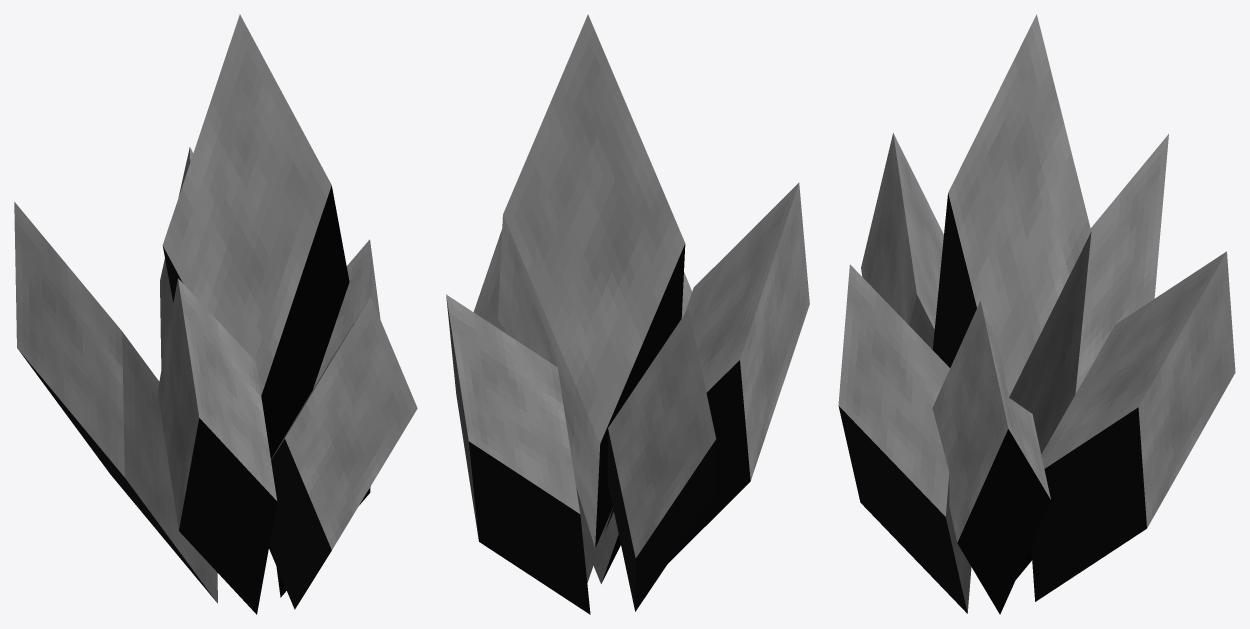
File: earth_crystal_cluster.obj
3 views of the same model, side by side, from view 1: azimuth 30°, elevation 25°; view 2: azimuth 150°, elevation 25°; view 3: azimuth 270°, elevation 25° (orthographic). The views are drawn at different scales.
Visible parts, largest first — view 1: part0, part4, part3, part5, part1, part2; view 2: part0, part2, part4, part3, part1, part5; view 3: part0, part2, part5, part1, part3, part4.
Part boxes in pixels (<box>): part0: <box>162,14,349,459</box>; part4: <box>157,278,277,614</box>; part3: <box>14,202,217,603</box>; part5: <box>269,296,417,609</box>; part1: <box>276,239,380,597</box>; part2: <box>160,147,193,369</box>; part0: <box>498,14,685,548</box>; part2: <box>446,294,590,614</box>; part4: <box>668,182,809,563</box>; part3: <box>607,309,716,611</box>; part1: <box>473,229,612,582</box>; part5: <box>593,272,691,583</box>; part0: <box>932,14,1091,454</box>; part2: <box>1031,251,1235,601</box>; part5: <box>838,264,971,613</box>; part1: <box>932,301,1050,614</box>; part3: <box>1016,134,1168,579</box>; part4: <box>861,133,943,349</box>.
Bounding box in the file's own units: 0.6132 × 1.12 × 0.6834.
